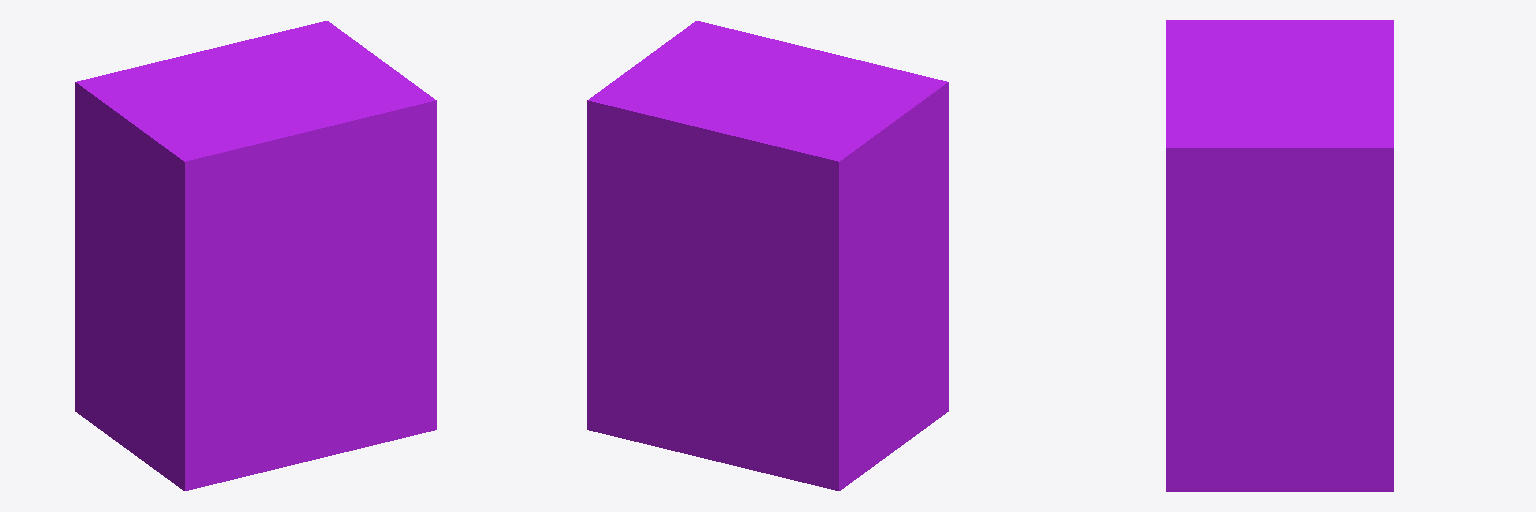
URDF robot description (test):
<?xml version="1.0"?>
<robot name="test">
    <material name="red">
        <color rgba="1.0 0 0 1.0"/>
    </material>
    <material name="green">
        <color rgba="0 1.0 0 1.0"/>
    </material>
    <material name="blue">
        <color rgba="0.8 0.2 1.0 1.0"/>
    </material>
    <material name="white">
        <color rgba="1.0 1.0 1.0 1.0"/>
    </material>

<link name="baseLink">
<inertial>
    <origin xyz="0.0 0.0 0.0" rpy="0.0 0.0 0.0"/>
    <inertia ixx="0.0" ixy="0.0" ixz="0.0" iyy="0.0" iyz="0.0" izz="0.0"/>
    <mass value="0.0"/>
</inertial>
<visual name='cube'>
   <origin xyz="0.0 0.0 0.0" rpy="0.0 0.0 0.0"/>
   <geometry>
       <box size="4 3 5"/>
   </geometry>
   <material name="blue"/>
</visual>
</link>

</robot>

--- What the picture shows (computed from the rendered views, not written in the file) ---
The picture shows the robot from 3 angles, left to right: view 1: azimuth 30°, elevation 25°; view 2: azimuth 150°, elevation 25°; view 3: azimuth 270°, elevation 25°; orthographic projection.
Model test with 1 links and 0 joints (none), rooted at baseLink, posed every joint at zero.
Links seen in each view (by area): view 1: baseLink; view 2: baseLink; view 3: baseLink.
Boxes of the visible links, box(x1,y1,x2,y2) form: baseLink: box(75, 21, 436, 490); baseLink: box(587, 21, 948, 490); baseLink: box(1166, 20, 1393, 491).
Bounding box of the posed robot: 4 × 3 × 5 m (x, y, z).
Geometry: primitives only (box / cylinder / sphere), no mesh files.